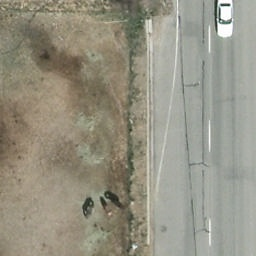car: (214, 0, 234, 38)
